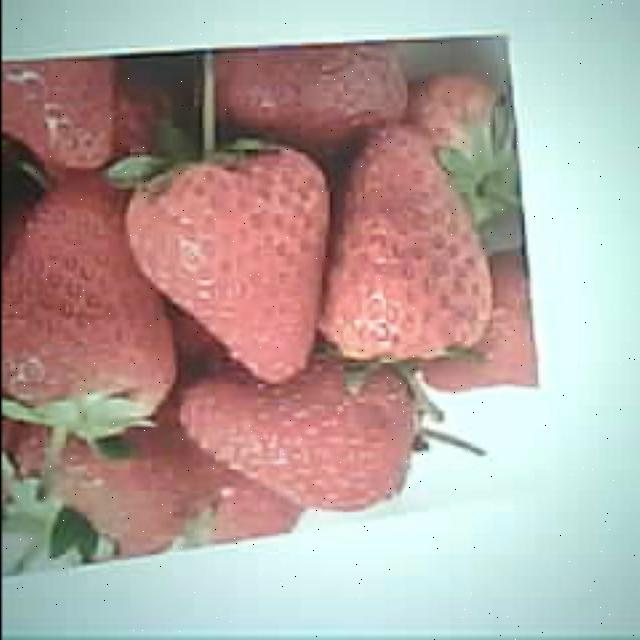strawberry: (126, 141, 327, 380), (0, 178, 172, 426), (320, 131, 490, 364), (175, 362, 412, 512)
